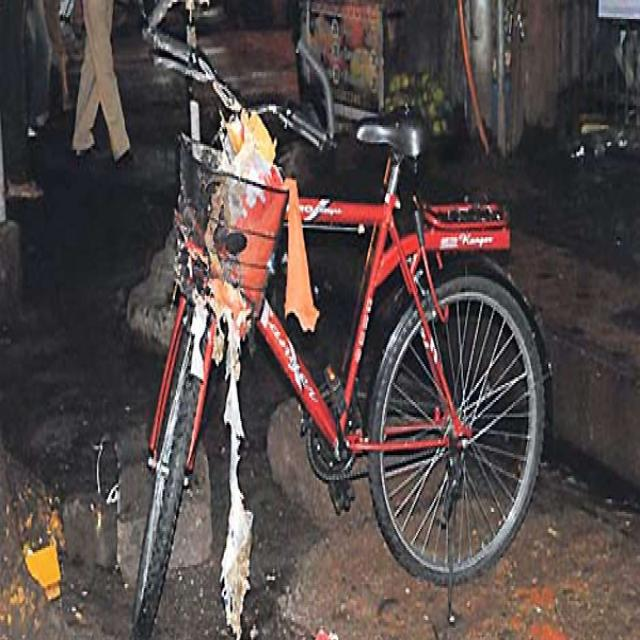accident: (132, 6, 549, 637)
